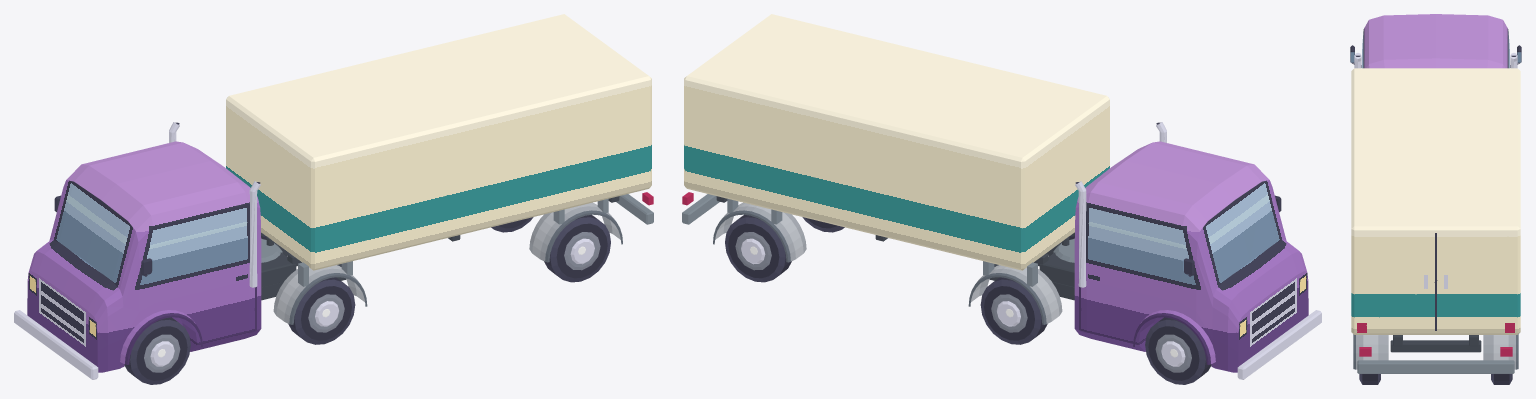
The picture shows the model from 3 angles, left to right: view 1: azimuth 30°, elevation 25°; view 2: azimuth 150°, elevation 25°; view 3: azimuth 270°, elevation 25°; orthographic projection. The views are drawn at different scales.
Parts seen in each view (by area): view 1: Body_static, Wheel_FL_tire_hub, Wheel_ML_tire_hub, Wheel_RL_tire_hub; view 2: Body_static, Wheel_FR_tire_hub, Wheel_MR_tire_hub, Wheel_RR_tire_hub; view 3: Body_static, Wheel_RL_tire_hub, Wheel_RR_tire_hub.
Part boxes in pixels (box(x1,y1,x2,y2)): Body_static: box(14, 14, 653, 379); Wheel_FL_tire_hub: box(124, 317, 190, 384); Wheel_ML_tire_hub: box(288, 277, 355, 344); Wheel_RL_tire_hub: box(544, 215, 610, 282); Body_static: box(682, 14, 1321, 379); Wheel_FR_tire_hub: box(1145, 317, 1211, 384); Wheel_MR_tire_hub: box(980, 277, 1047, 344); Wheel_RR_tire_hub: box(725, 215, 791, 282); Body_static: box(1350, 14, 1521, 373); Wheel_RL_tire_hub: box(1359, 374, 1380, 384); Wheel_RR_tire_hub: box(1491, 374, 1512, 384).
Size of the model in its own units: 160 by 52.7 by 43.91.
Materials: 1 (1 with a texture image).
